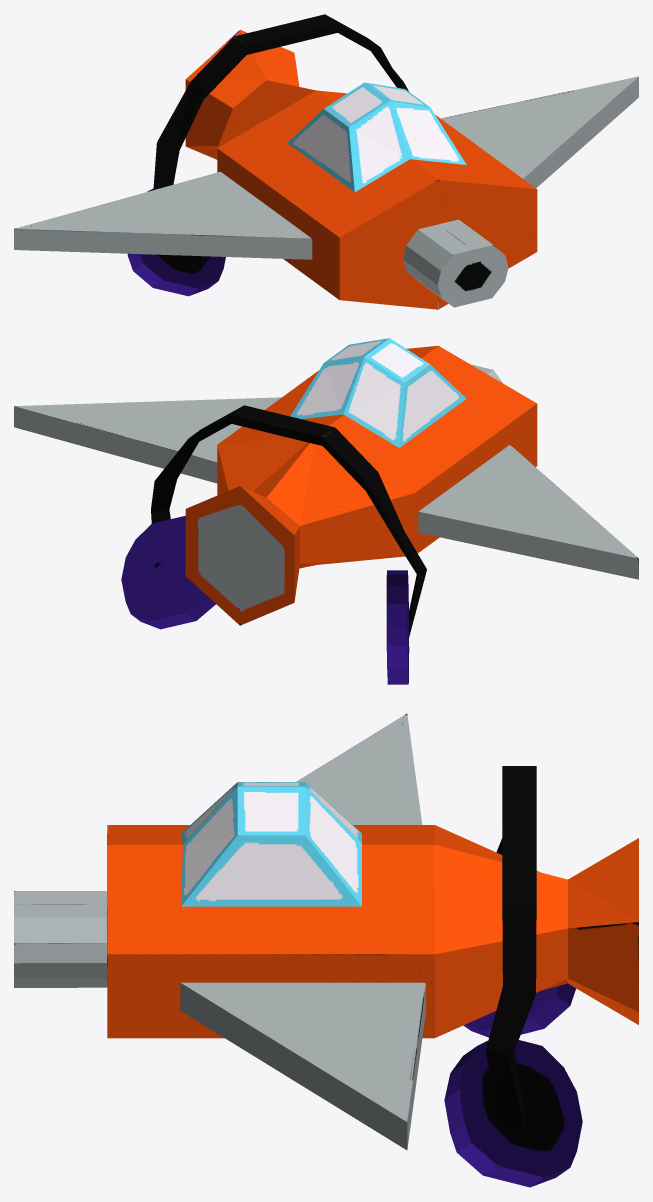
File: playerdemo.obj
3 views of the same model, one above another, from view 1: azimuth 30°, elevation 25°; view 2: azimuth 150°, elevation 25°; view 3: azimuth 270°, elevation 25° (orthographic). The views are drawn at different scales.
Visible parts, largest first — view 1: 立方体_立方体.001; view 2: 立方体_立方体.001; view 3: 立方体_立方体.001.
Boxes of the visible parts, x1=… form: 立方体_立方体.001: x1=14, y1=14, x2=638, y2=309; 立方体_立方体.001: x1=14, y1=338, x2=638, y2=684; 立方体_立方体.001: x1=14, y1=714, x2=638, y2=1187.
Bounding box in the file's own units: 4.13 × 1.49 × 2.67.
